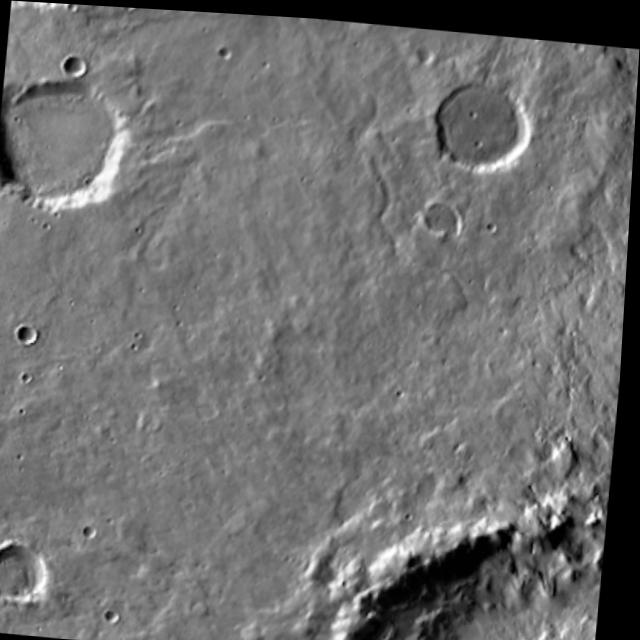Crater: (330, 443, 616, 640), (0, 61, 141, 238), (423, 55, 542, 180), (0, 593, 29, 634)
